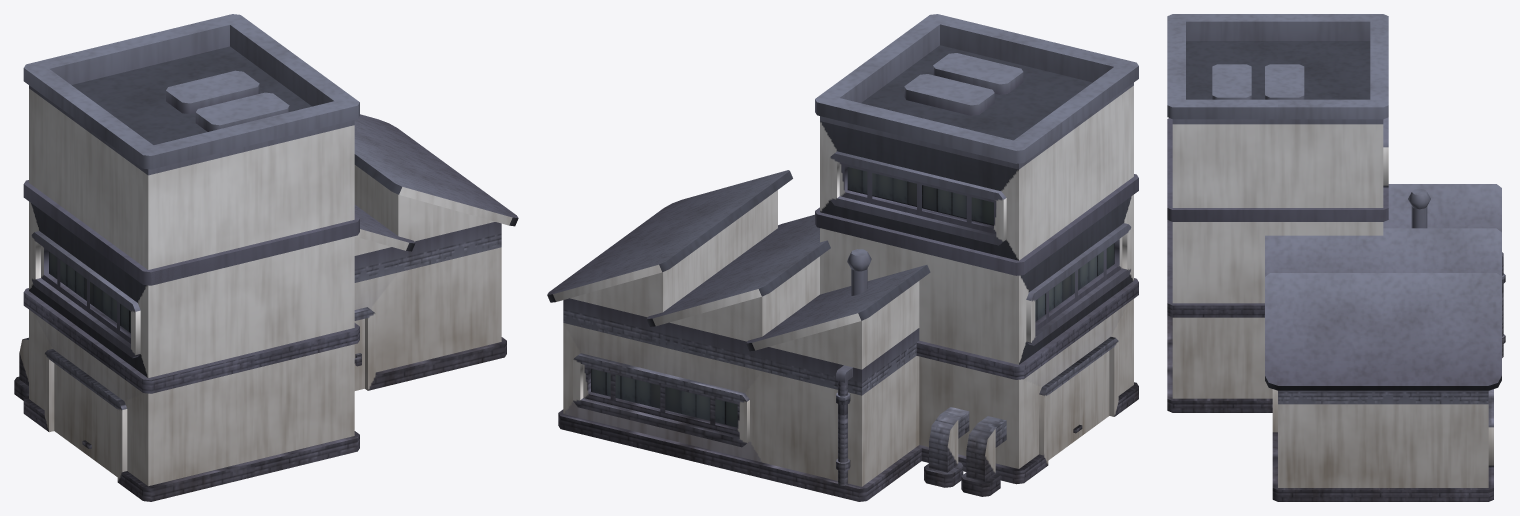
The model's file is building-g-white.glb.
3 renders of one model, left to right at view 1: azimuth 30°, elevation 25°; view 2: azimuth 150°, elevation 25°; view 3: azimuth 270°, elevation 25°, orthographic. The views are drawn at different scales.
Visible parts, largest first — view 1: building-g; view 2: building-g; view 3: building-g.
Boxes of the visible parts, left/top/right/bottom form: building-g: left=14, top=14, right=518, bottom=501; building-g: left=547, top=14, right=1138, bottom=501; building-g: left=1167, top=14, right=1505, bottom=501.
Bounding box in the file's own units: 1.68 × 1.28 × 1.28.
1 material, 1 textured.
